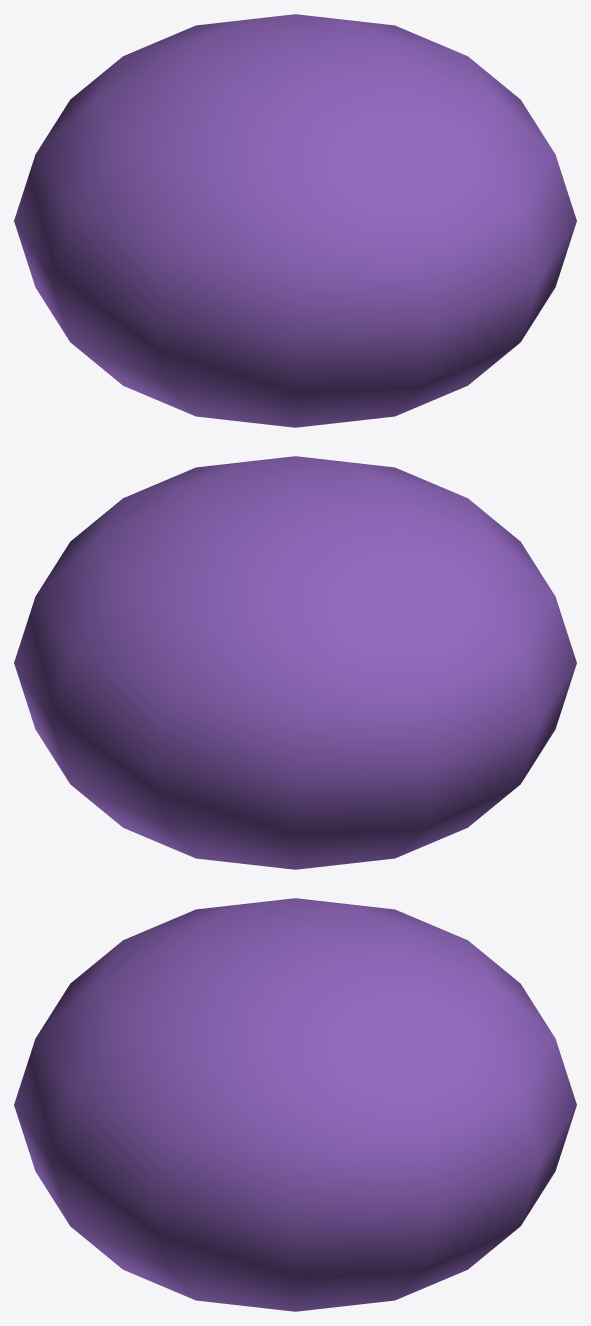
The model's file is bean_bag.glb.
The picture shows the model from 3 angles, top to bottom: view 1: azimuth 30°, elevation 25°; view 2: azimuth 150°, elevation 25°; view 3: azimuth 270°, elevation 25°; orthographic projection.
Parts seen in each view (by area): view 1: root; view 2: root; view 3: root.
Part boxes in pixels (x1,y1,x2,y2): root: (14, 14, 576, 427); root: (14, 456, 576, 869); root: (14, 898, 576, 1311).
Size of the model in its own units: 1.8 by 1.22 by 1.8.
